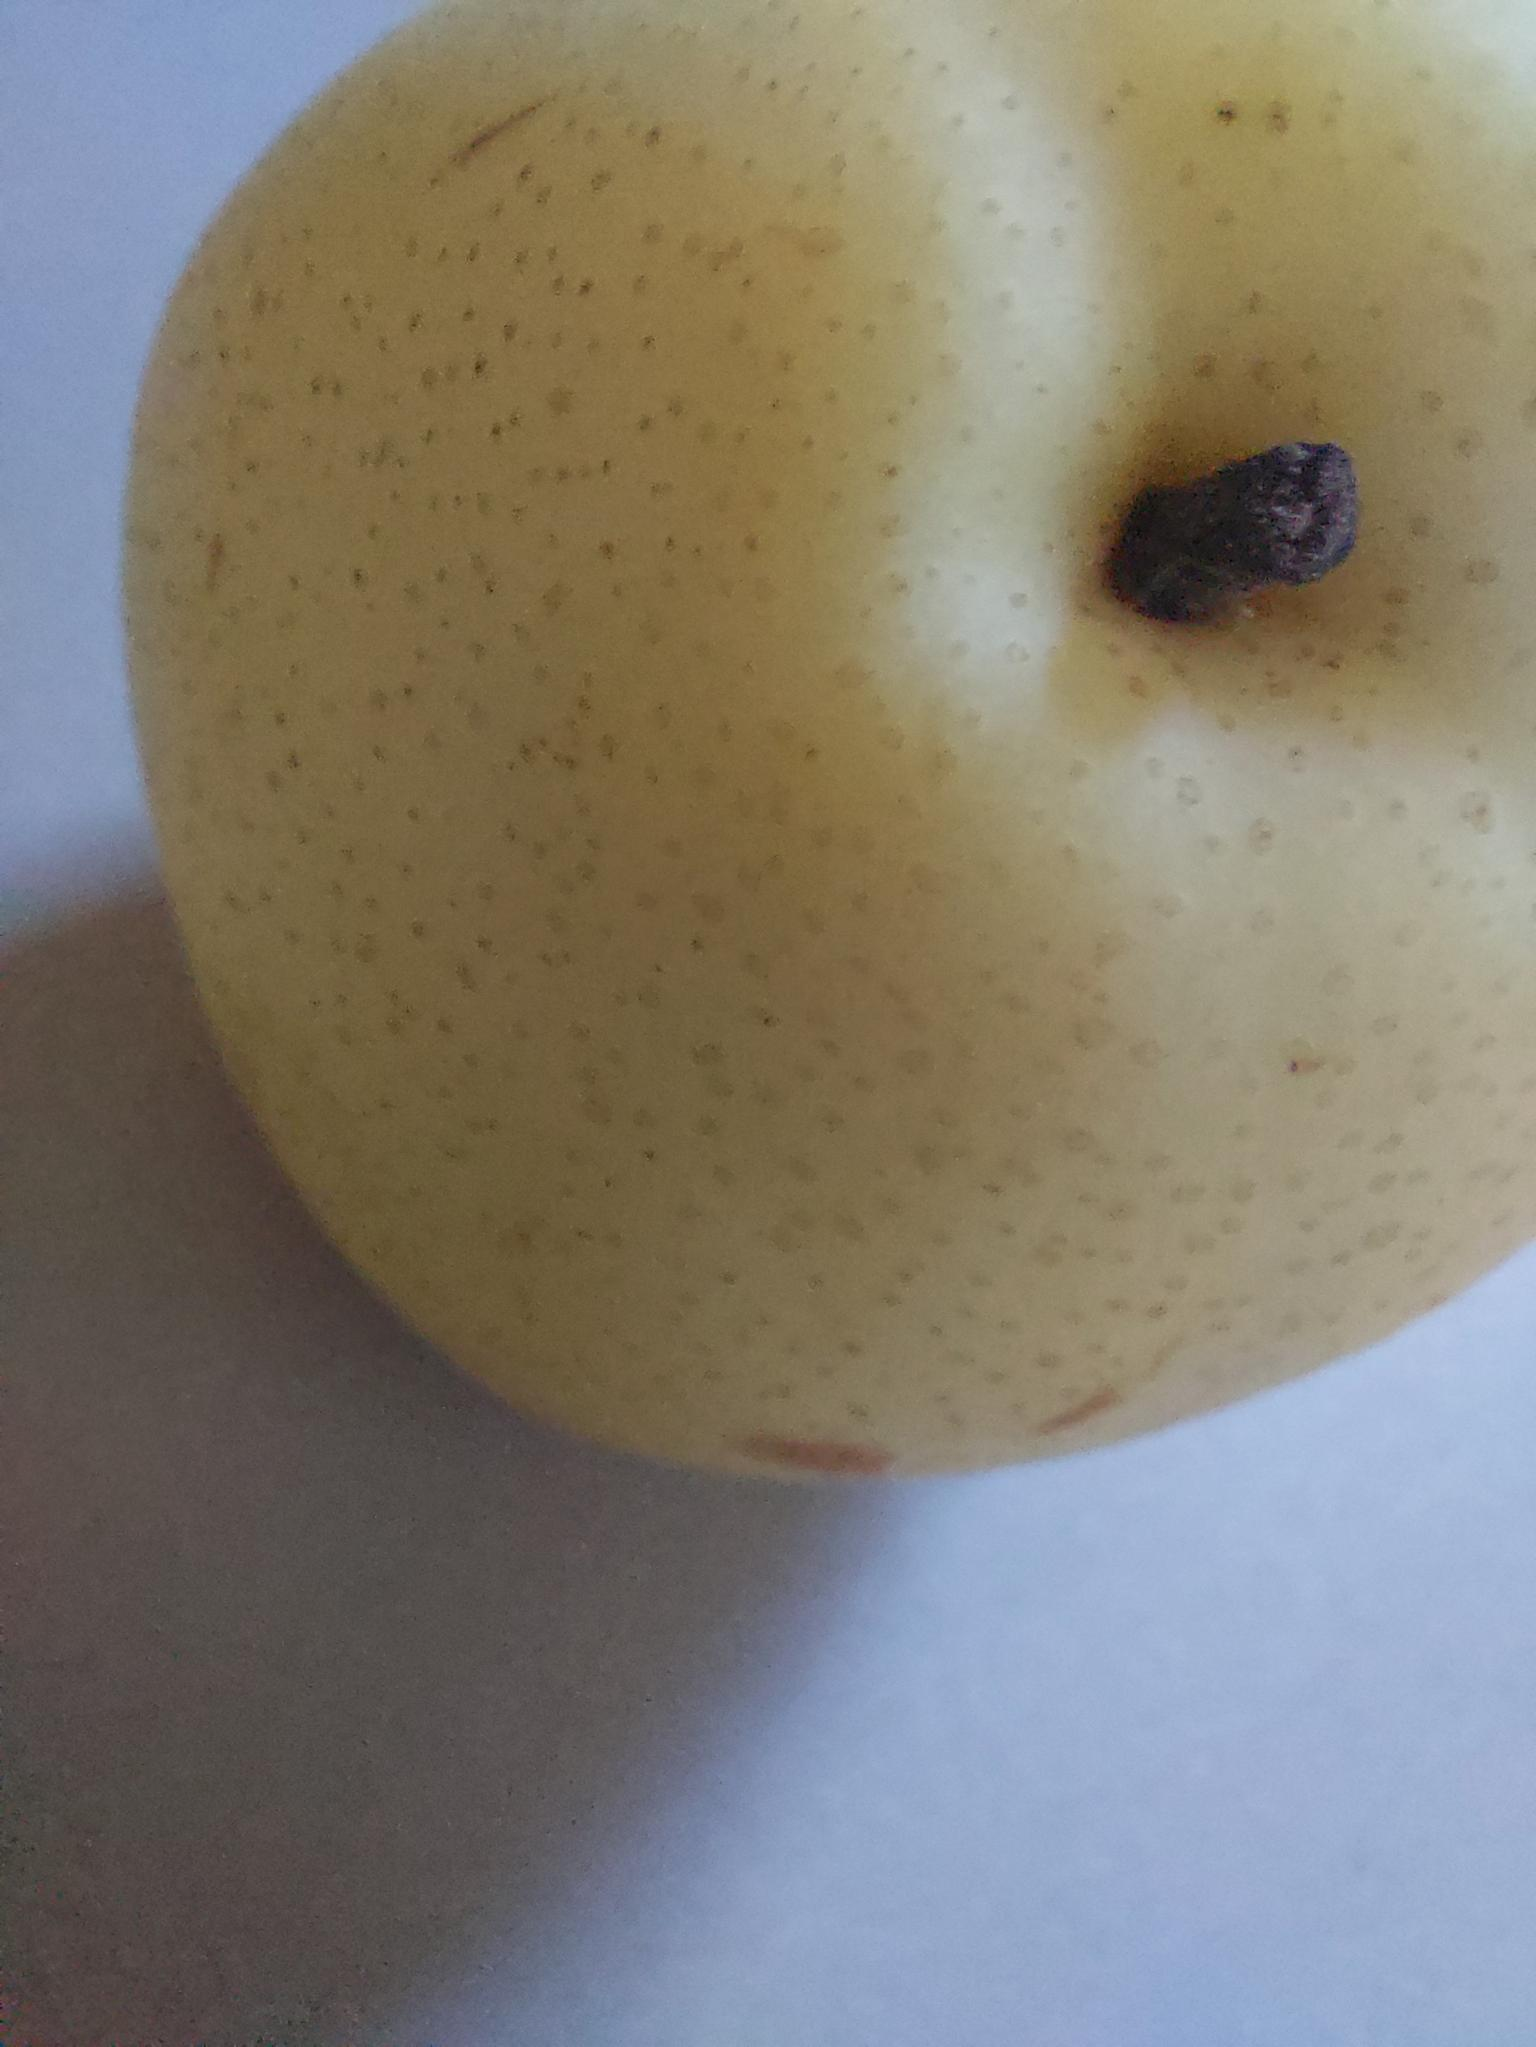Good Pear: (100, 2, 1536, 1520)
